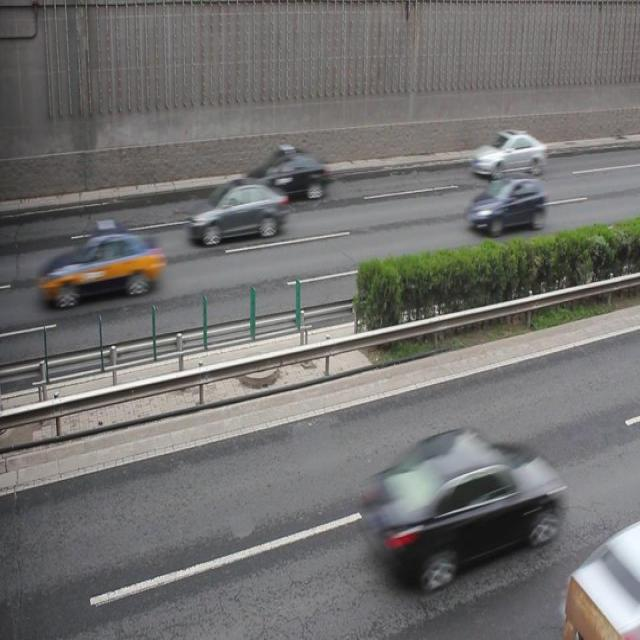car: (362, 426, 560, 586), (41, 225, 164, 307), (186, 175, 286, 246), (464, 169, 544, 232), (242, 146, 327, 202), (468, 126, 547, 178)
